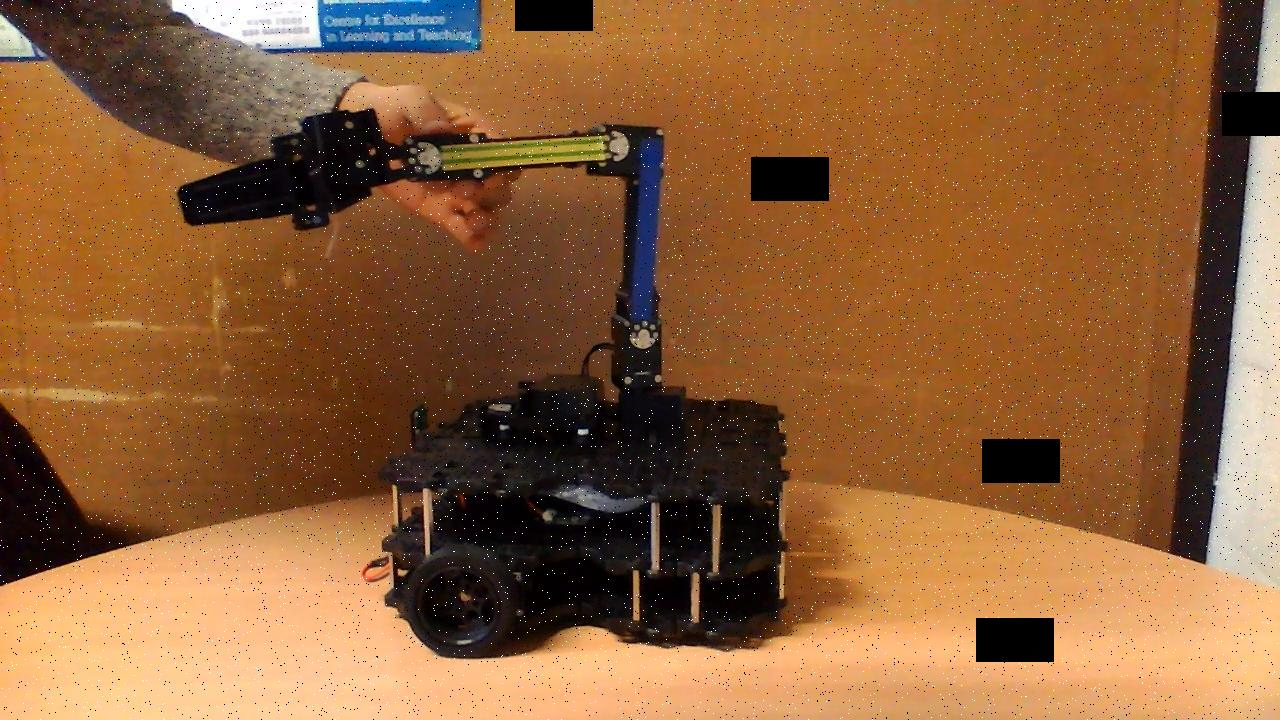Arm: (599, 121, 668, 357)
Hand: (170, 105, 401, 237)
Wrist: (398, 119, 638, 185)
base: (359, 370, 796, 660)
